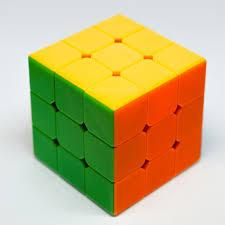cube: (30, 15, 206, 216)
